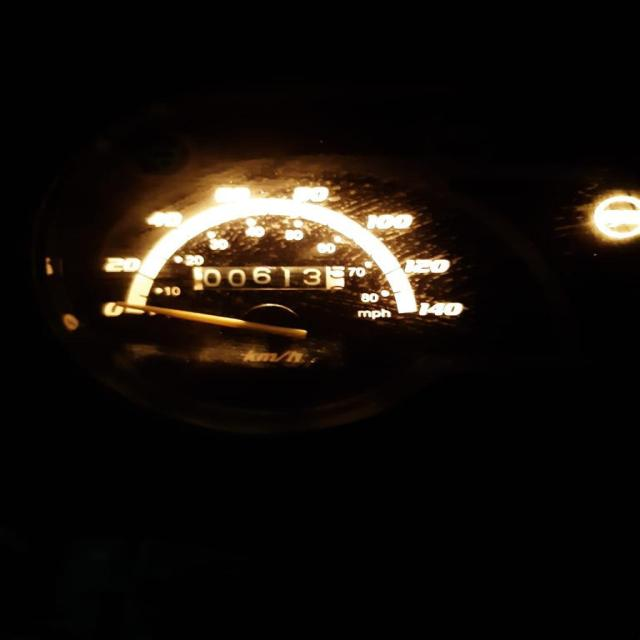odometer: (188, 262, 346, 292)
